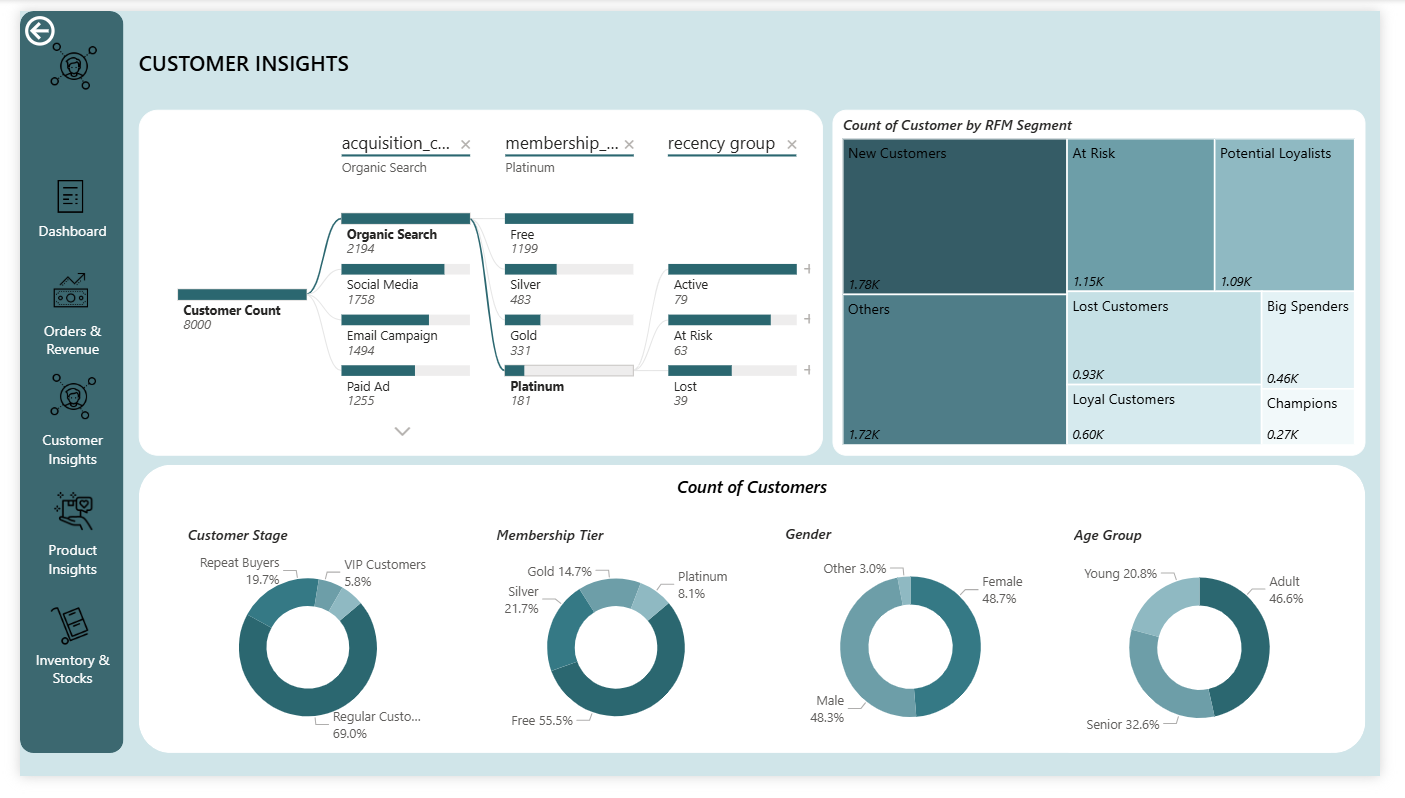

The page's visual inventory and layout, read from the dashboard file:
{"tool":"powerbi","page":{"name":"Customer Insights","canvas":[1280,720],"ordinal":2},"visuals":[{"type":"treemap","title":"Count of Customer by RFM Segment","fields":{"Values":["CountNonNull(customers.customer_id)"],"Group":["customers.RFM Segment"]},"box":[764.9,92.9,501.9,325.7],"z":0},{"type":"shape","box":[112.2,427.1,1154.6,271.4],"z":1000},{"type":"donutChart","title":"Age Group","fields":{"Category":["customers.age group"],"Y":["customers.Customer Count"]},"box":[987.2,483.2,246.4,214.4],"z":2000},{"type":"donutChart","title":"Gender","fields":{"Y":["customers.Customer Count"],"Category":["customers.gender"]},"box":[715.4,482.6,246.1,214.7],"z":3000},{"type":"donutChart","title":"Membership Tier","fields":{"Category":["customers.membership_tier"],"Y":["customers.Customer Count"]},"box":[444,483.8,235.3,213.5],"z":4000},{"type":"donutChart","title":"Customer Stage","fields":{"Y":["customers.Customer Count"],"Category":["customers.Customer Funnel Stage"]},"box":[153.2,483.8,236.5,213.5],"z":5000},{"type":"decompositionTreeVisual","fields":{"ExplainBy":["customers.acquisition_channel","customers.membership_tier","customers.recency group","customers.days_since_last_purchase","customers.returns_made","customers.preferred_payment_method","customers.preferred_device"],"Analyze":["customers.Customer Count"]},"box":[112.2,92.9,644.2,325.7],"z":6000},{"type":"shape","box":[0,0,97.4,698.5],"z":7000},{"type":"pageNavigator","box":[10.9,158,78.4,510.3],"z":8000},{"type":"image","box":[8.4,158,78.4,33.8],"z":9000},{"type":"image","box":[9.7,241.3,77.2,43.4],"z":10000},{"type":"image","box":[10.9,337.8,78.4,50.7],"z":11000},{"type":"image","box":[12.1,448.8,77.2,44.6],"z":12000},{"type":"image","box":[8.4,561,77.2,35],"z":13000},{"type":"image","box":[10.9,25.3,79.6,51.9],"z":14000},{"type":"shape","box":[112.2,19.3,359.5,57.9],"z":15000},{"type":"actionButton","box":[0,0,100.1,37.4],"z":16000}]}

Visuals, with their boxes on the page's 1280x720 design canvas (x1, y1, x2, y2). These are canvas units, not pixel positions in the 1405x798 screenshot, which may show the page scaled, cropped or inside an application window:
"Count of Customer by RFM Segment" treemap: <region>765, 93, 1267, 419</region>
shape: <region>112, 427, 1267, 698</region>
"Age Group" donutChart: <region>987, 483, 1234, 698</region>
"Gender" donutChart: <region>715, 483, 962, 697</region>
"Membership Tier" donutChart: <region>444, 484, 679, 697</region>
"Customer Stage" donutChart: <region>153, 484, 390, 697</region>
decompositionTreeVisual - customers.acquisition_channel x customers.membership_tier: <region>112, 93, 756, 419</region>
shape: <region>0, 0, 97, 698</region>
pageNavigator: <region>11, 158, 89, 668</region>
image: <region>8, 158, 87, 192</region>
image: <region>10, 241, 87, 285</region>
image: <region>11, 338, 89, 388</region>
image: <region>12, 449, 89, 493</region>
image: <region>8, 561, 86, 596</region>
image: <region>11, 25, 90, 77</region>
shape: <region>112, 19, 472, 77</region>
actionButton: <region>0, 0, 100, 37</region>
